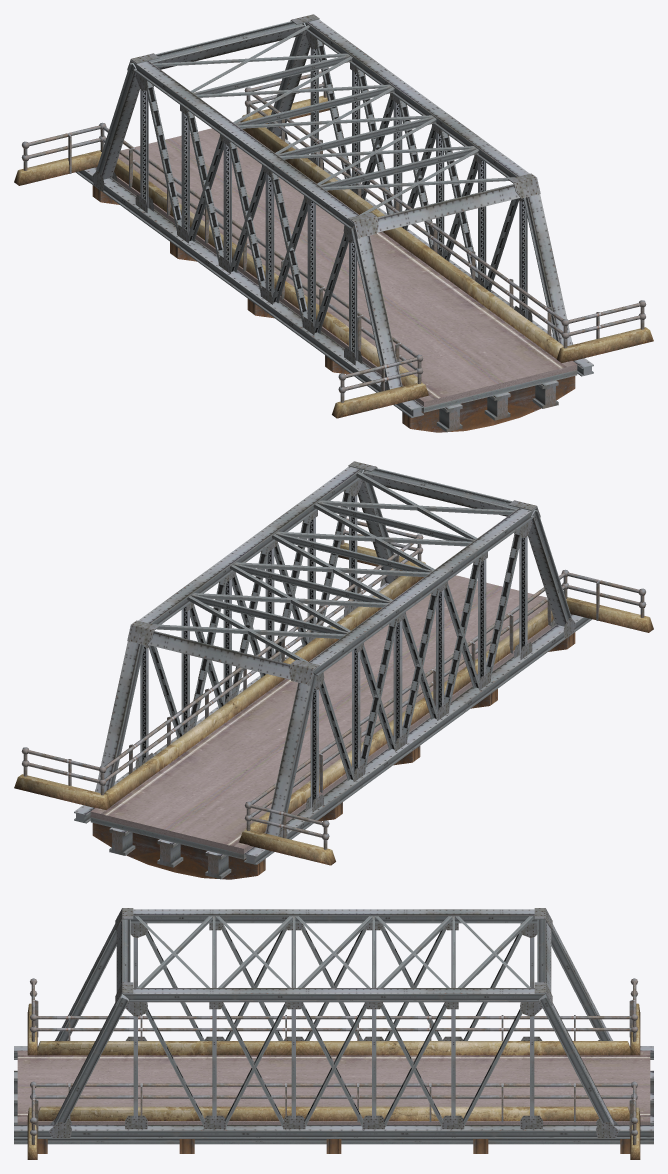
The model's file is truss_bridge.dae.
3 renders of one model, top to bottom at view 1: azimuth 30°, elevation 25°; view 2: azimuth 150°, elevation 25°; view 3: azimuth 270°, elevation 25°, orthographic. The views are drawn at different scales.
Visible parts, largest first — view 1: Bridge; view 2: Bridge; view 3: Bridge.
Boxes of the visible parts, x1,y1,x2,y2 form: Bridge: (14, 14, 653, 432); Bridge: (14, 461, 653, 879); Bridge: (14, 908, 653, 1159).
Bounding box in the file's own units: 334 × 615 × 192.
